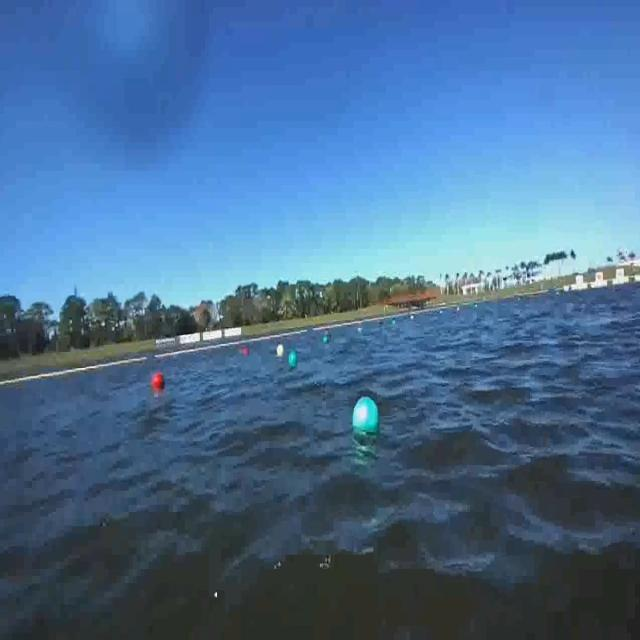green-buoy: (350, 398, 380, 443), (288, 349, 298, 368)
red-buoy: (151, 373, 165, 392)
yellow-buoy: (277, 344, 285, 358)
